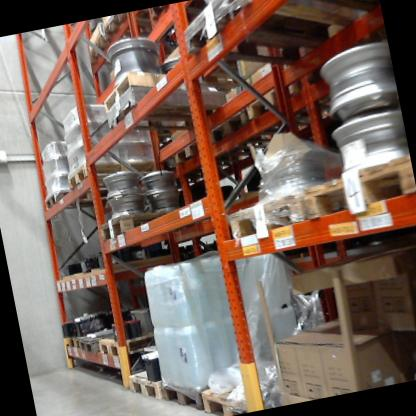pallet: (175, 0, 373, 94), (297, 138, 416, 228), (98, 60, 215, 140), (243, 71, 335, 145), (219, 180, 311, 247), (60, 233, 187, 281), (62, 145, 163, 202), (94, 195, 190, 251), (199, 372, 302, 416), (103, 3, 193, 53), (80, 19, 155, 78), (156, 368, 235, 416), (201, 100, 265, 151), (122, 355, 179, 409), (41, 177, 112, 219), (97, 323, 173, 361), (168, 131, 228, 175), (76, 331, 115, 359), (63, 328, 85, 353)
